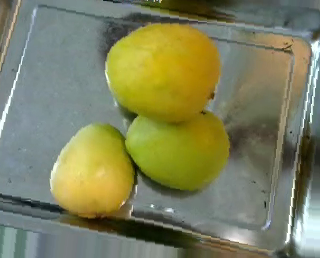Mango: (105, 25, 220, 123), (125, 108, 230, 191), (49, 120, 134, 216)
